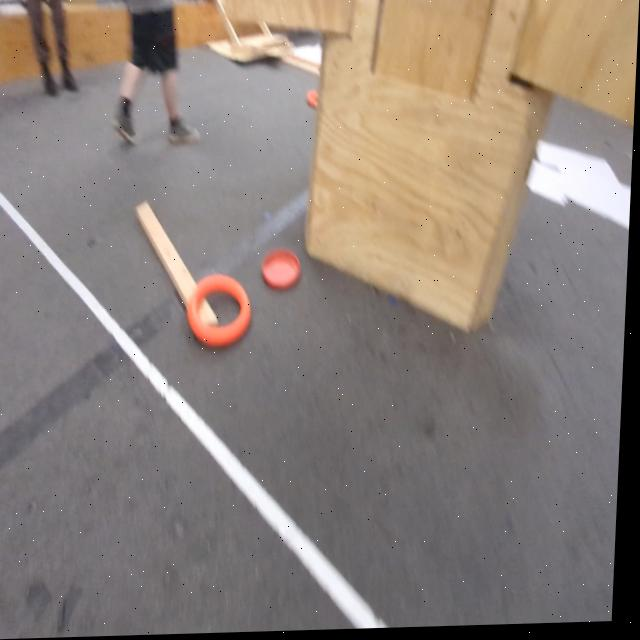note: (190, 276, 258, 348), (305, 89, 322, 114)
